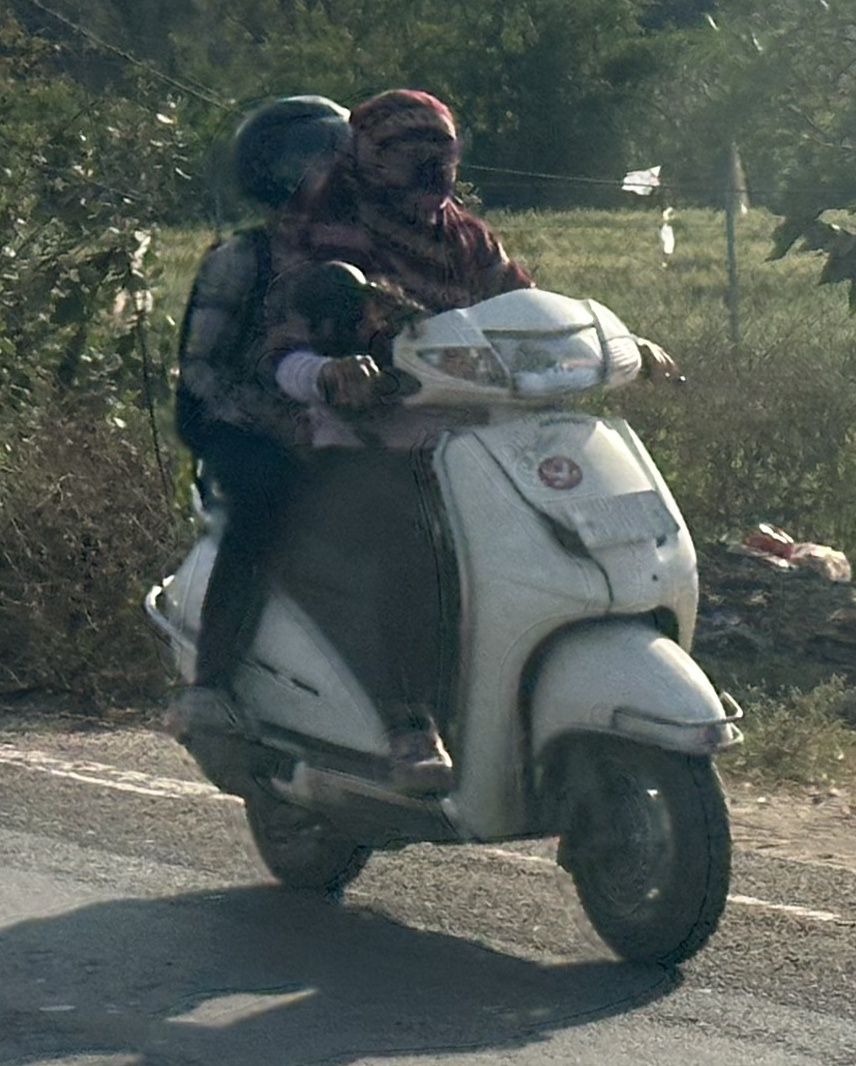BikeWithRider: (125, 70, 760, 979)
Helmet: (217, 82, 364, 225)
NoHelmet: (331, 80, 479, 217)
